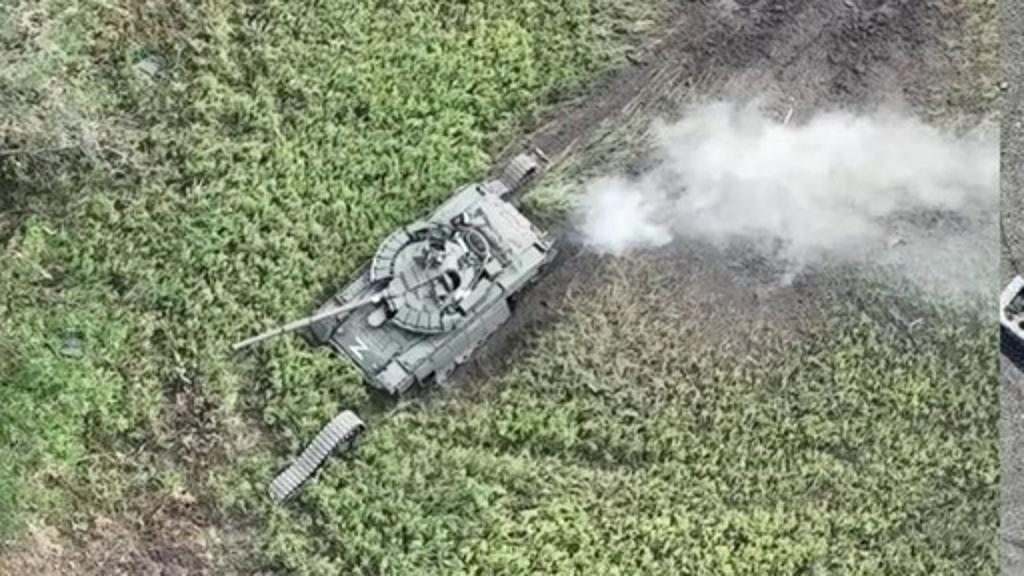TANK: (220, 172, 558, 414)
